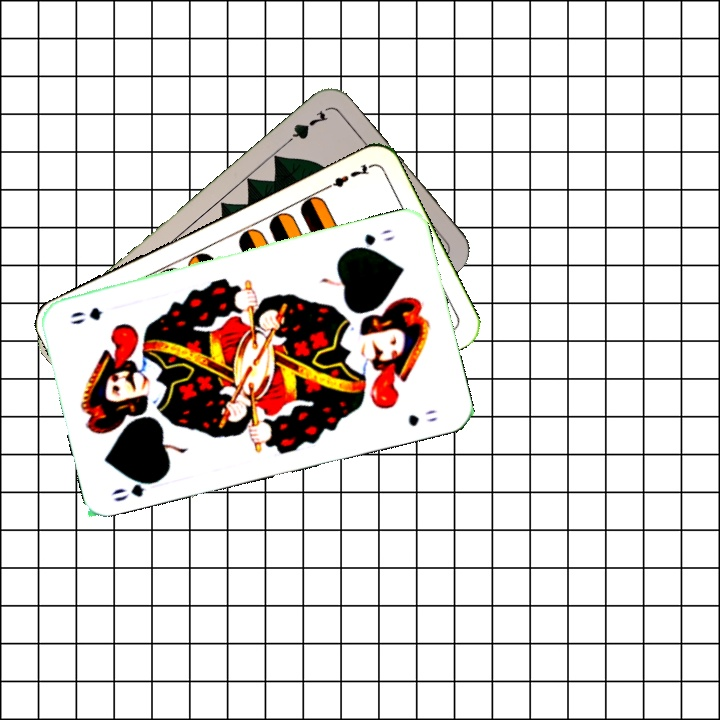E7: (318, 160, 373, 194)
G7: (278, 106, 331, 150)
GO: (107, 473, 165, 504), (346, 225, 397, 253)
